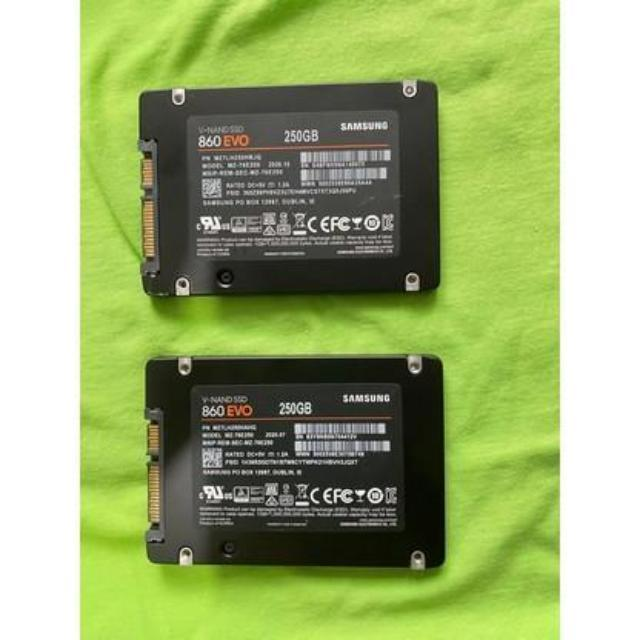DISK: (134, 80, 448, 311), (143, 348, 451, 577)
